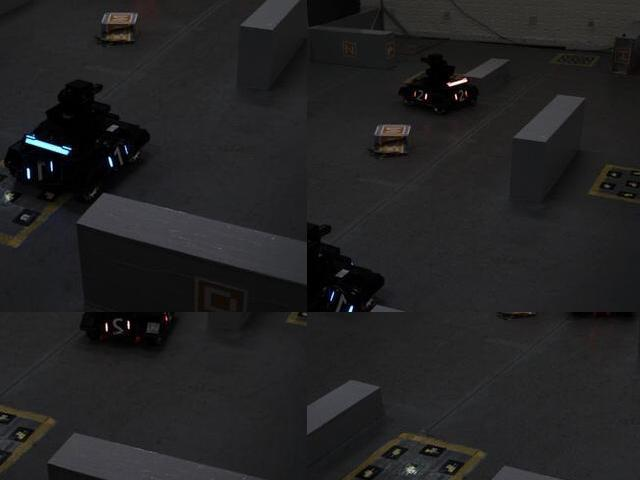armor: (23, 154, 62, 186), (100, 314, 137, 342), (327, 285, 363, 311), (101, 142, 133, 171), (406, 83, 434, 107), (449, 85, 472, 106), (155, 312, 178, 328)
